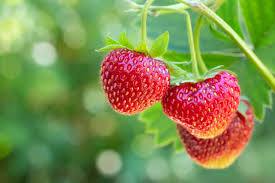ripe: (173, 95, 255, 170), (160, 66, 242, 140), (97, 44, 172, 115)
